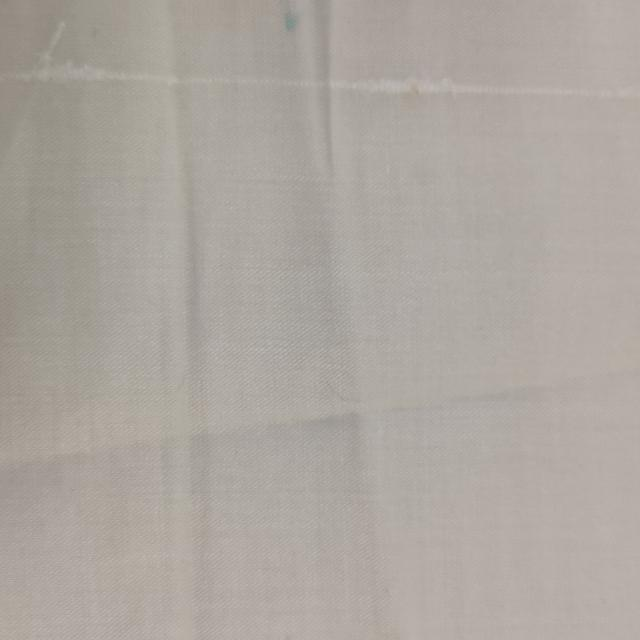stains: (8, 26, 634, 144)
